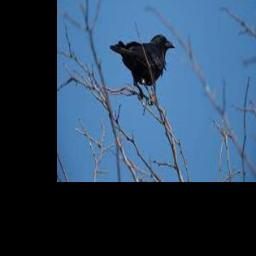Crow: (111, 34, 176, 100)
